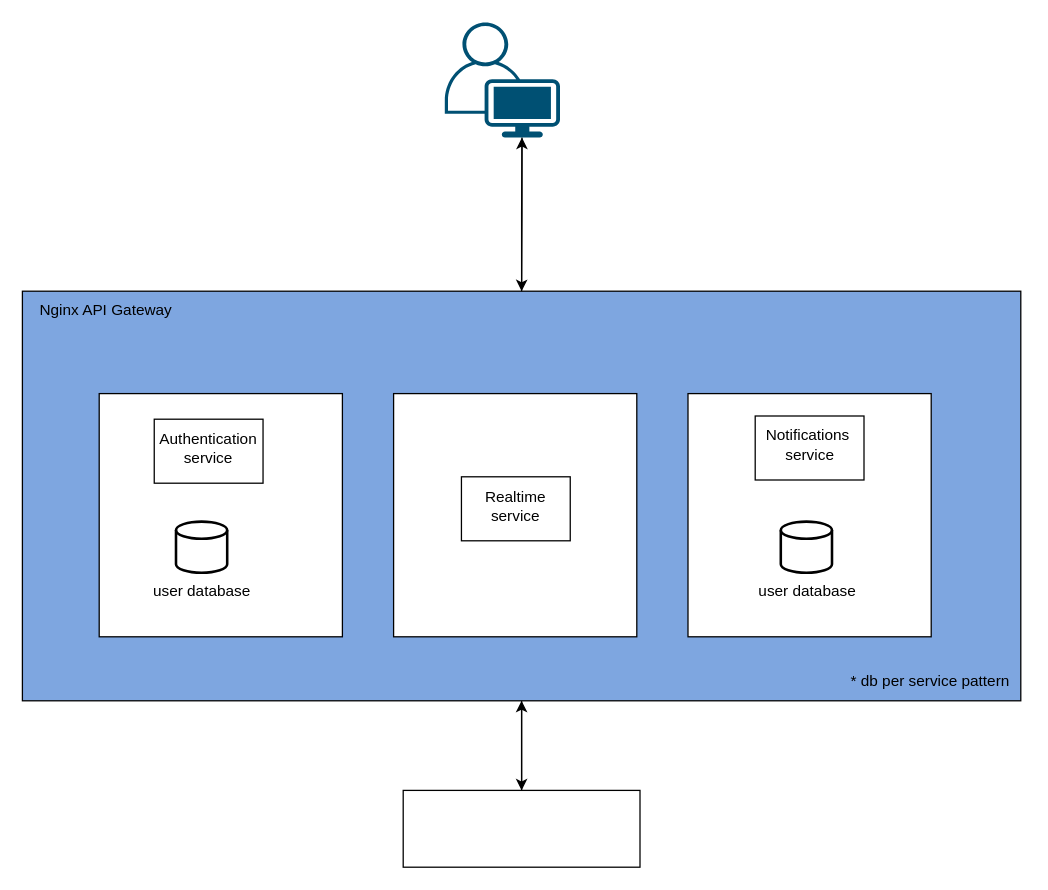
Some shapes in this 1048 by 890 pixel diagram are drawn without their labels. The shapes that lost their labels are listed below. From the top down, each one's centre as x and y in pixels, then its label:
point (501, 79): client
point (521, 828): RabbitMQ
